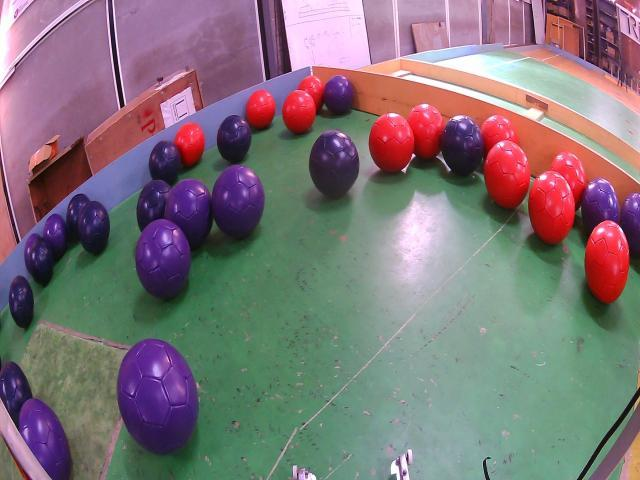jambhalya: (118, 338, 199, 455), (135, 218, 191, 298), (19, 398, 71, 480), (211, 165, 265, 238), (165, 178, 212, 248), (581, 178, 620, 233), (619, 193, 640, 257), (42, 213, 68, 259), (324, 75, 354, 114)
kaalyya: (309, 130, 360, 198), (440, 115, 484, 175), (0, 362, 32, 428), (136, 180, 171, 232), (78, 200, 110, 255), (216, 115, 251, 163), (24, 233, 54, 285), (149, 140, 181, 183), (9, 275, 34, 327), (66, 193, 90, 242)
